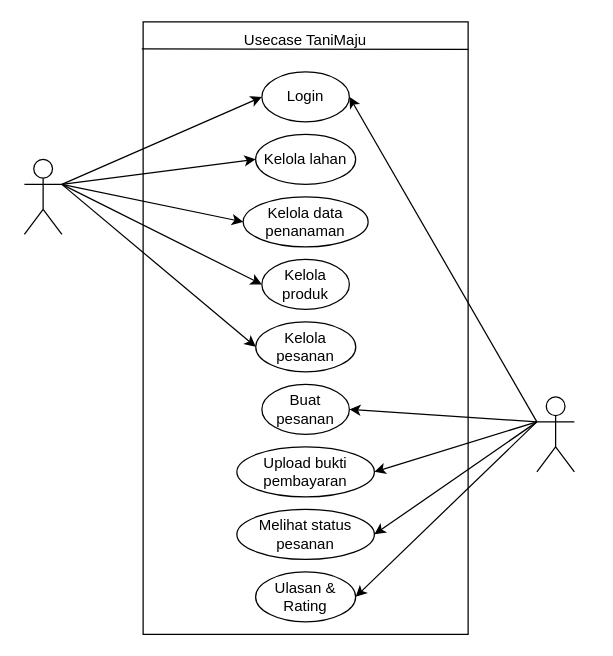
Some shapes in this 613 by 656 pixel diagram are drawn without their labels. The shapes that lost their labels are listed below. From the top down, each one's box as (x1, y1, x2, y2) in pixels, then its label:
(23, 158, 62, 234): Petani
(536, 396, 574, 472): Pelanggan
